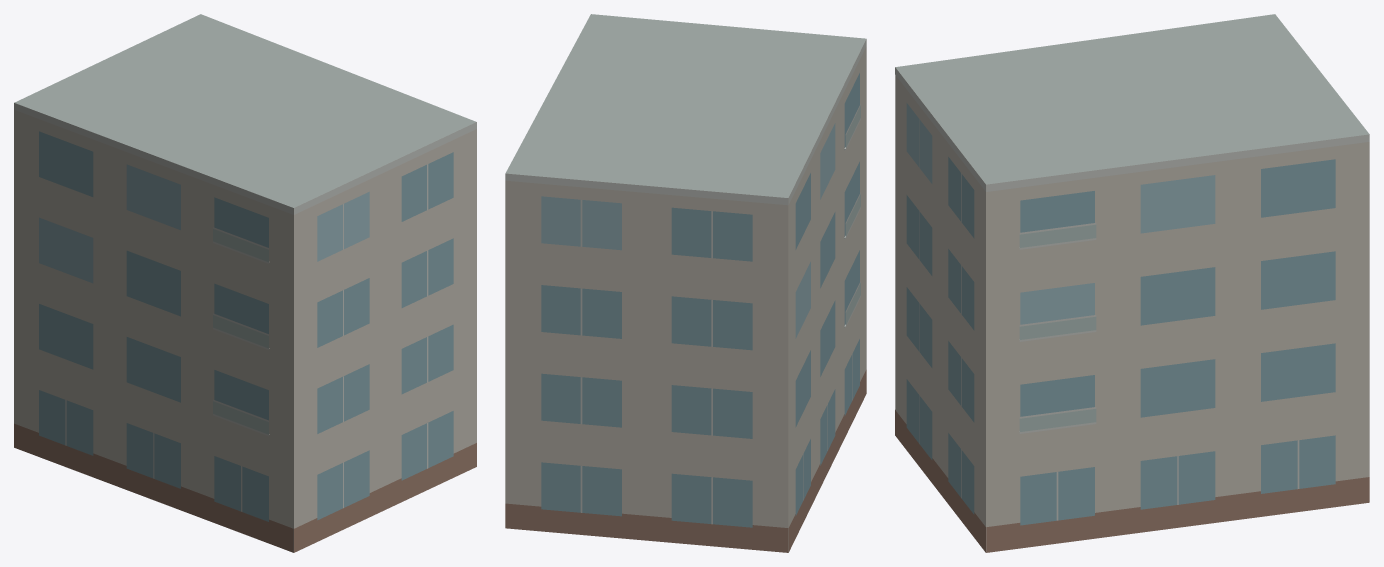
The model's file is survey-upis-32608167.glb.
3 views of the same model, side by side, from view 1: azimuth 30°, elevation 25°; view 2: azimuth 150°, elevation 25°; view 3: azimuth 270°, elevation 25° (orthographic). The views are drawn at different scales.
Parts seen in each view (by area): view 1: survey-upis-32608167.tmp; view 2: survey-upis-32608167.tmp; view 3: survey-upis-32608167.tmp.
Part boxes in pixels (bbox=[...]): survey-upis-32608167.tmp: bbox=[14, 14, 476, 552]; survey-upis-32608167.tmp: bbox=[505, 14, 866, 552]; survey-upis-32608167.tmp: bbox=[895, 14, 1369, 552].
Bounding box in the file's own units: 12.03 × 12.1 × 14.14.
